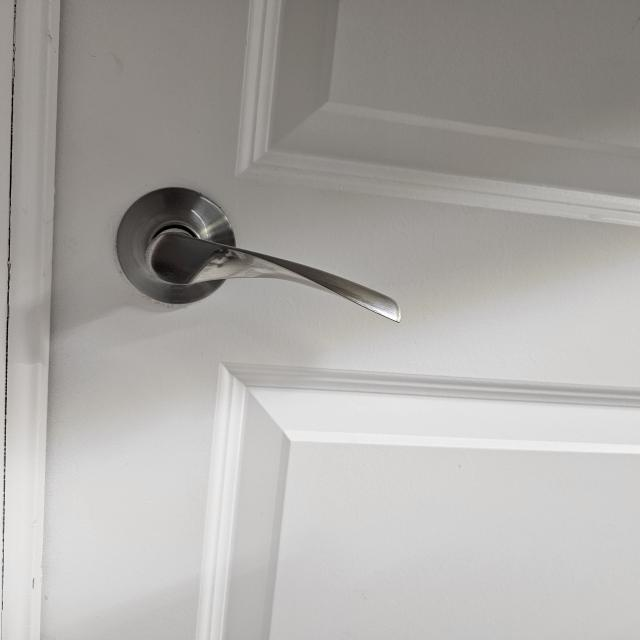door-handle: (116, 188, 400, 321)
